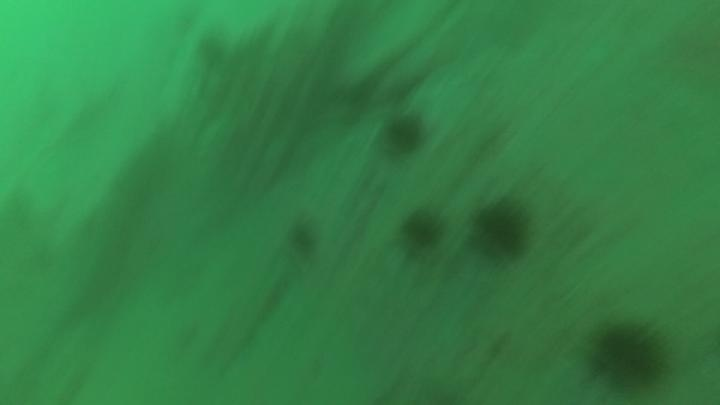echinus: (586, 316, 673, 394), (468, 194, 535, 264), (398, 205, 446, 254), (380, 111, 428, 159), (284, 215, 322, 262), (194, 31, 230, 70)
